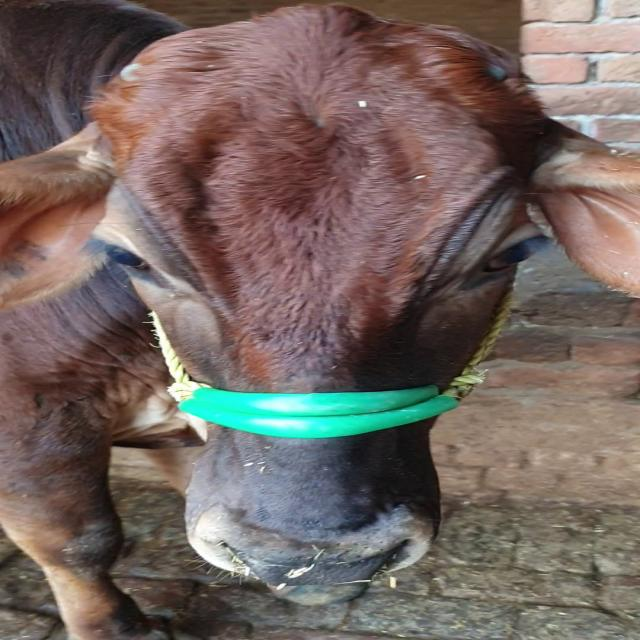cowFace: (92, 14, 601, 591)
